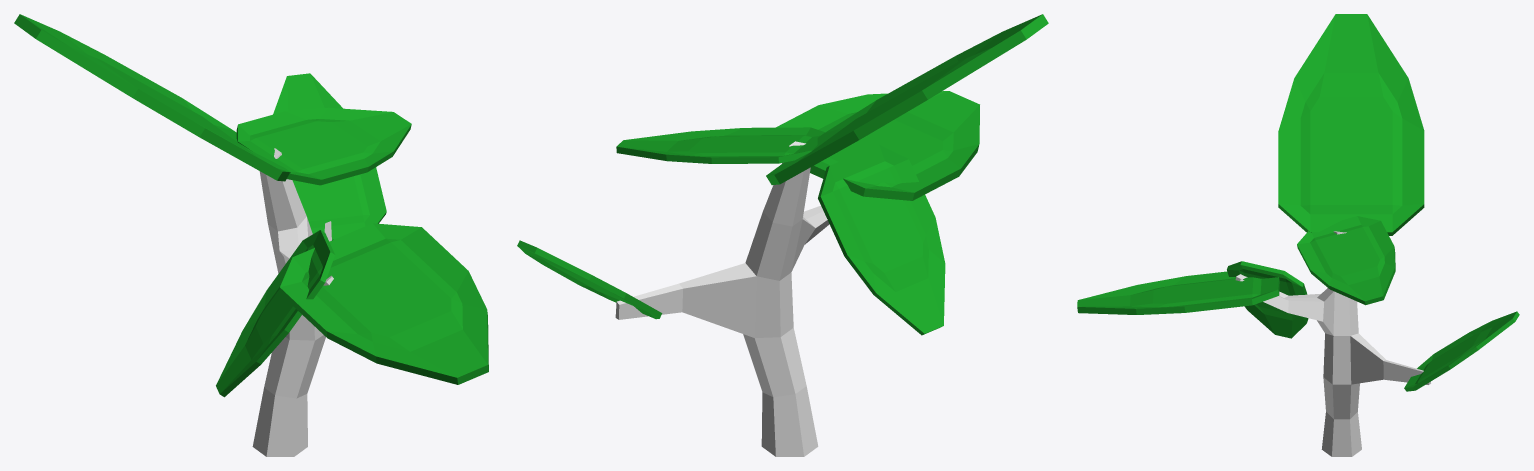
Rendered from plant.fbx.
3 views of the same model, side by side, from view 1: azimuth 30°, elevation 25°; view 2: azimuth 150°, elevation 25°; view 3: azimuth 270°, elevation 25° (orthographic). The views are drawn at different scales.
Parts seen in each view (by area): view 1: Plant; view 2: Plant; view 3: Plant.
Boxes of the visible parts, box(x1,y1,x2,y2) form: Plant: box(14, 14, 488, 456); Plant: box(517, 14, 1048, 456); Plant: box(1077, 14, 1519, 456).
Size of the model in its own units: 37.97 by 41.81 by 48.03.
